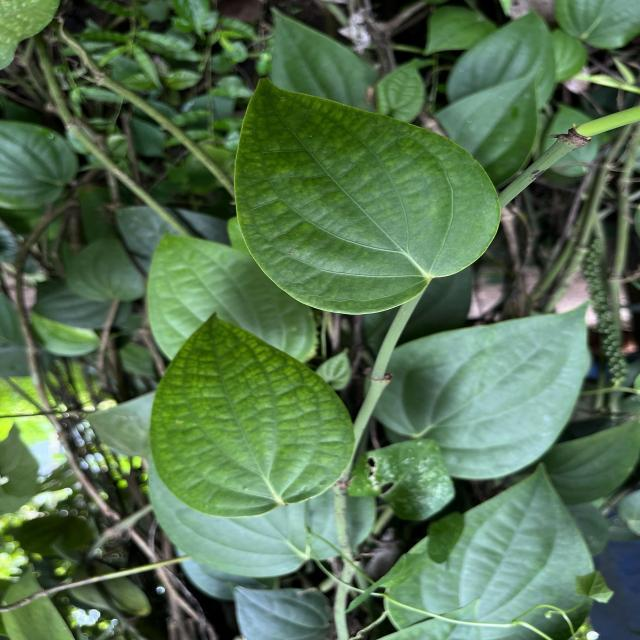Piper nigrum: (232, 75, 504, 318), (148, 310, 358, 520)
